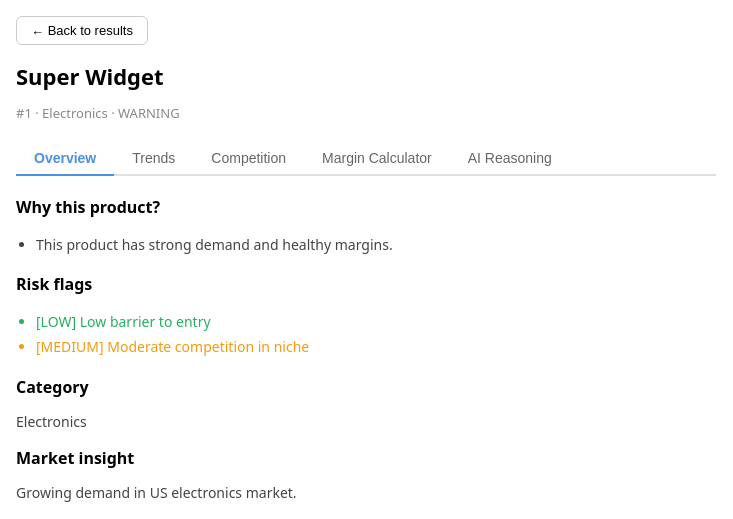
Test: AC 5 — Margin Calculator › calculates margin live when inputs change
The image size is (733, 519).
Click the tab "Margin Calculator": [377, 159] box x1=304 y1=142 x2=450 y2=176
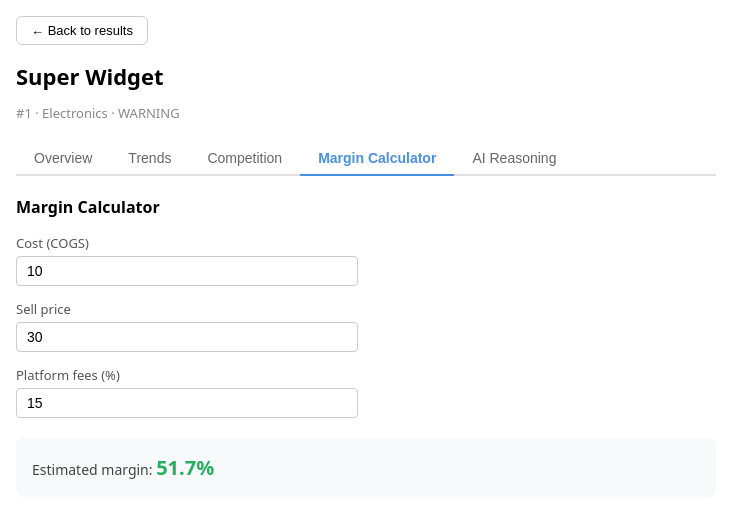
Now the text with test id "calculated-margin" reads "51.7%", box x1=156 y1=454 x2=214 y2=481
Note: Change cost to 20
Replace the text in the number field labelled "Cost (COGS)" with "20": [187, 271] box x1=16 y1=256 x2=358 y2=286
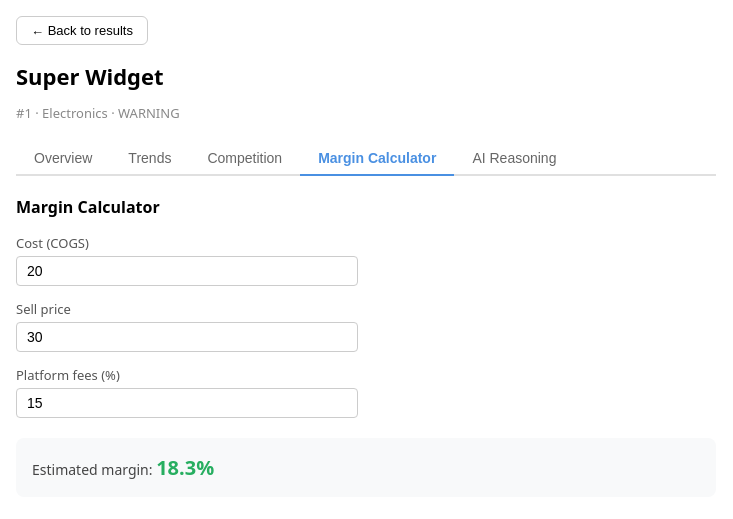
Now the text with test id "calculated-margin" reads "18.3%", box x1=156 y1=454 x2=214 y2=481
